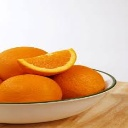orange: (1, 74, 62, 106)
